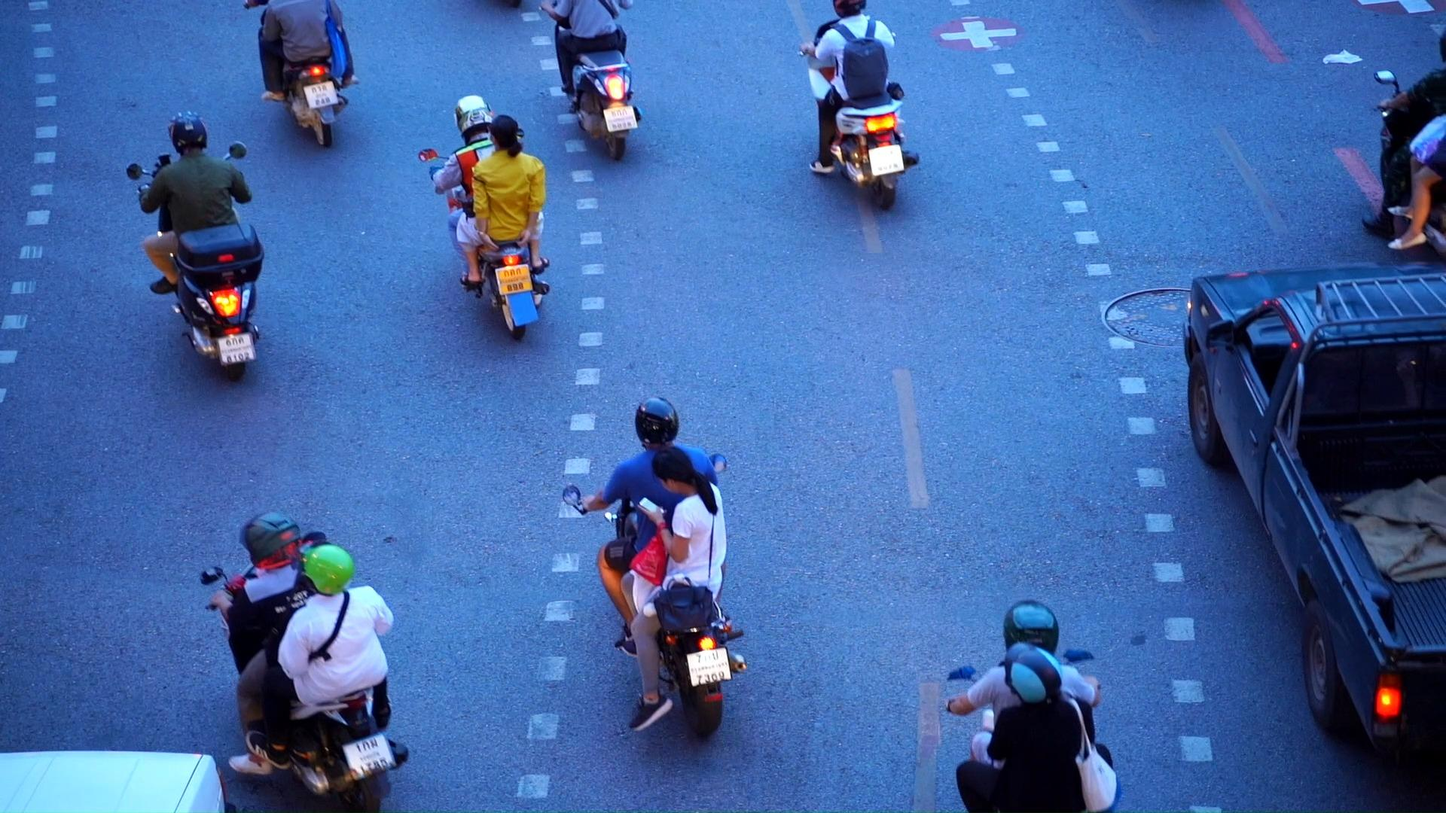driver: (562, 396, 748, 738), (200, 510, 409, 813), (943, 599, 1124, 813), (125, 111, 265, 381), (418, 94, 550, 340), (796, 0, 920, 210), (1360, 24, 1446, 269), (245, 0, 360, 148), (539, 0, 644, 161)
helmet: (1004, 641, 1064, 707), (291, 540, 356, 597), (239, 510, 301, 569), (1004, 599, 1059, 656), (635, 397, 679, 446), (454, 95, 494, 140), (168, 111, 207, 153), (832, 0, 866, 18)
no-helmet: (652, 446, 716, 497), (487, 115, 523, 158)
